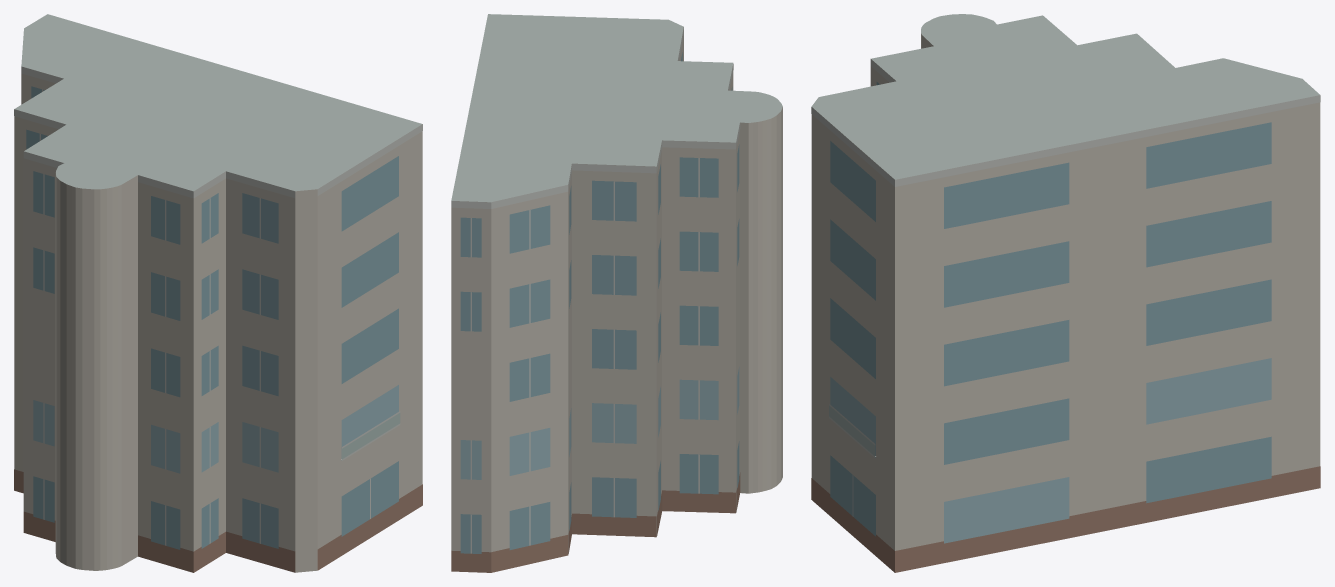
File: survey-upis-32877099.glb
3 views of the same model, side by side, from view 1: azimuth 30°, elevation 25°; view 2: azimuth 150°, elevation 25°; view 3: azimuth 270°, elevation 25° (orthographic). The views are drawn at different scales.
Parts seen in each view (by area): view 1: survey-upis-32877099.tmp; view 2: survey-upis-32877099.tmp; view 3: survey-upis-32877099.tmp.
Part boxes in pixels (left/top/right/bottom): survey-upis-32877099.tmp: left=14, top=14, right=422, bottom=572; survey-upis-32877099.tmp: left=451, top=14, right=782, bottom=572; survey-upis-32877099.tmp: left=811, top=14, right=1320, bottom=572.
Bounding box in the file's own units: 11.95 × 13.2 × 15.5.
